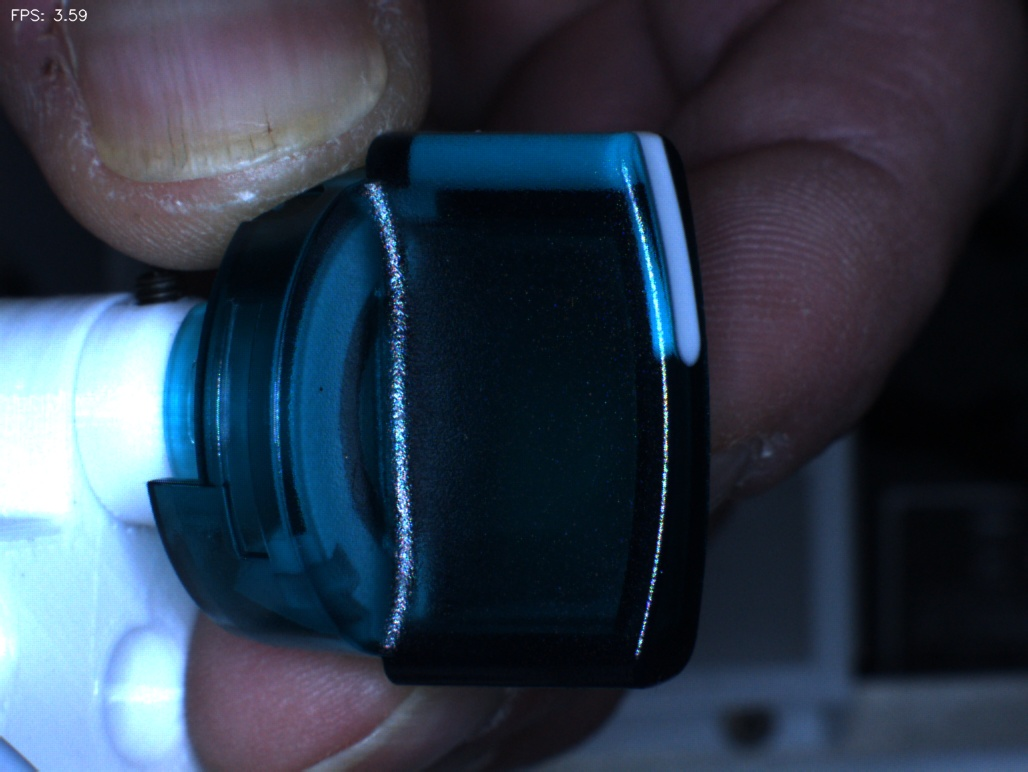PointNoir: (286, 353, 357, 429)
